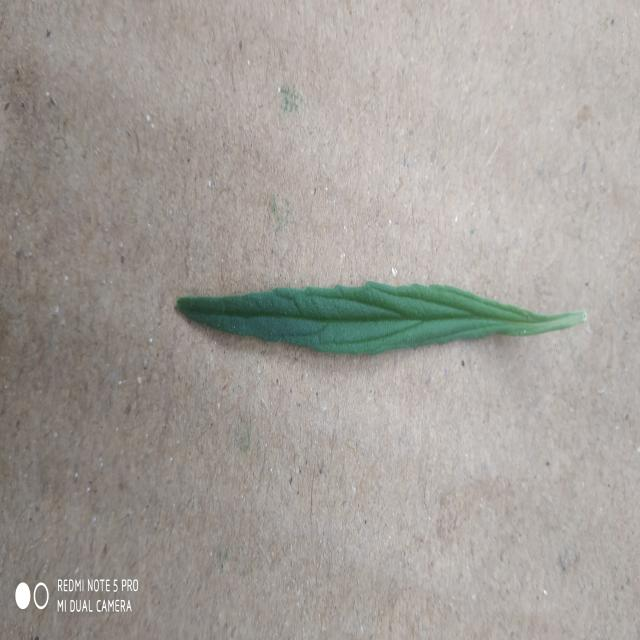thambe: (176, 282, 586, 353)
